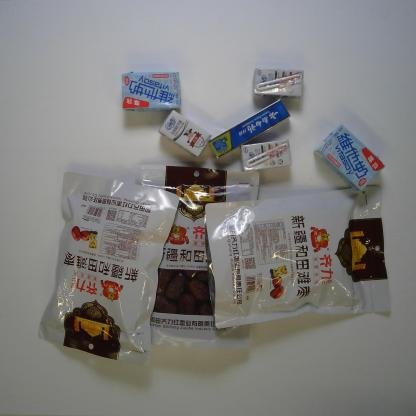Dried Food: (35, 171, 185, 368), (202, 182, 394, 334), (125, 164, 263, 358)
Milk: (312, 124, 387, 194), (155, 107, 212, 160), (119, 68, 181, 115), (238, 137, 294, 175), (250, 66, 306, 102)
Personal Hygiene: (208, 94, 292, 161)
